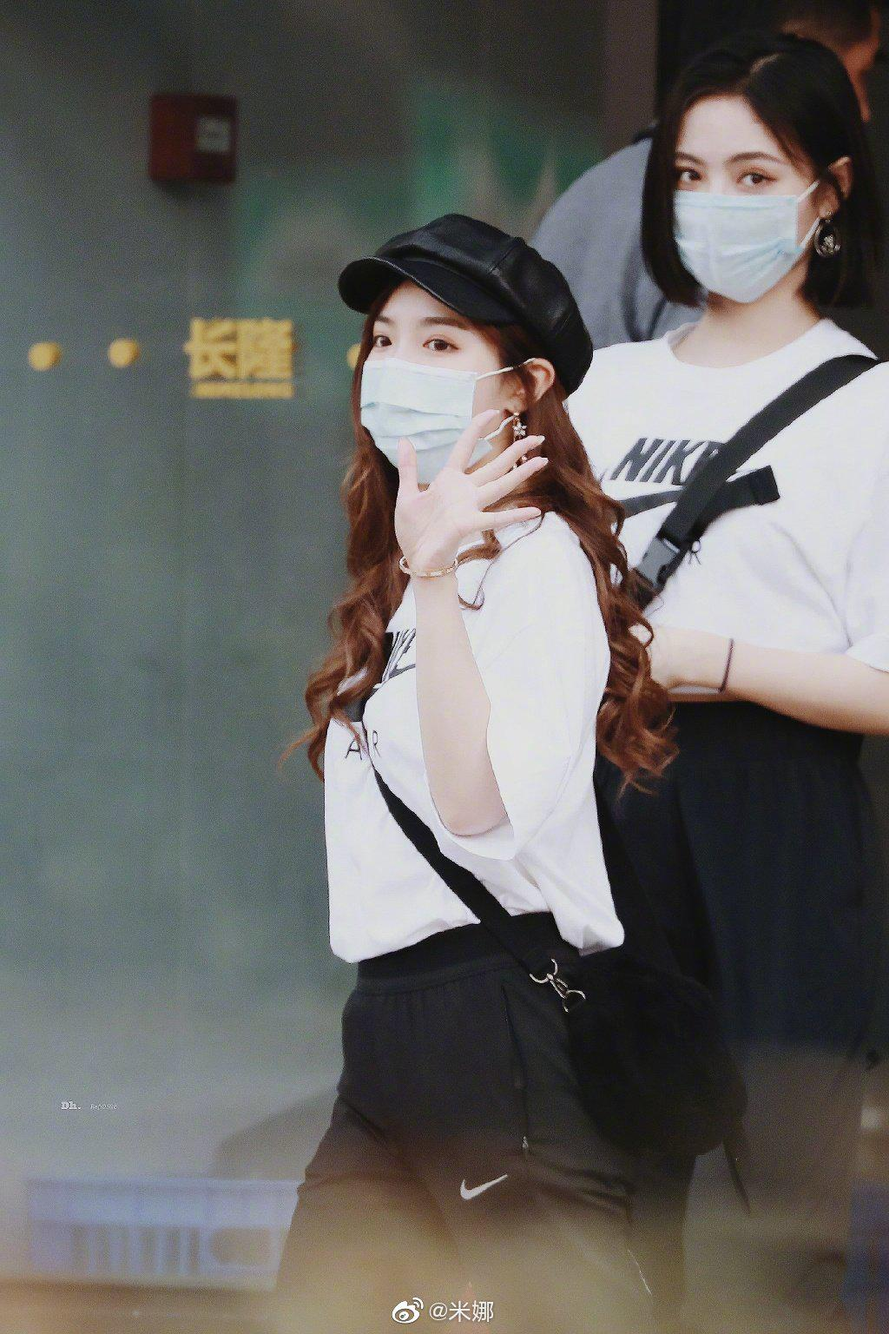OK: (358, 300, 491, 483), (675, 125, 801, 300)
